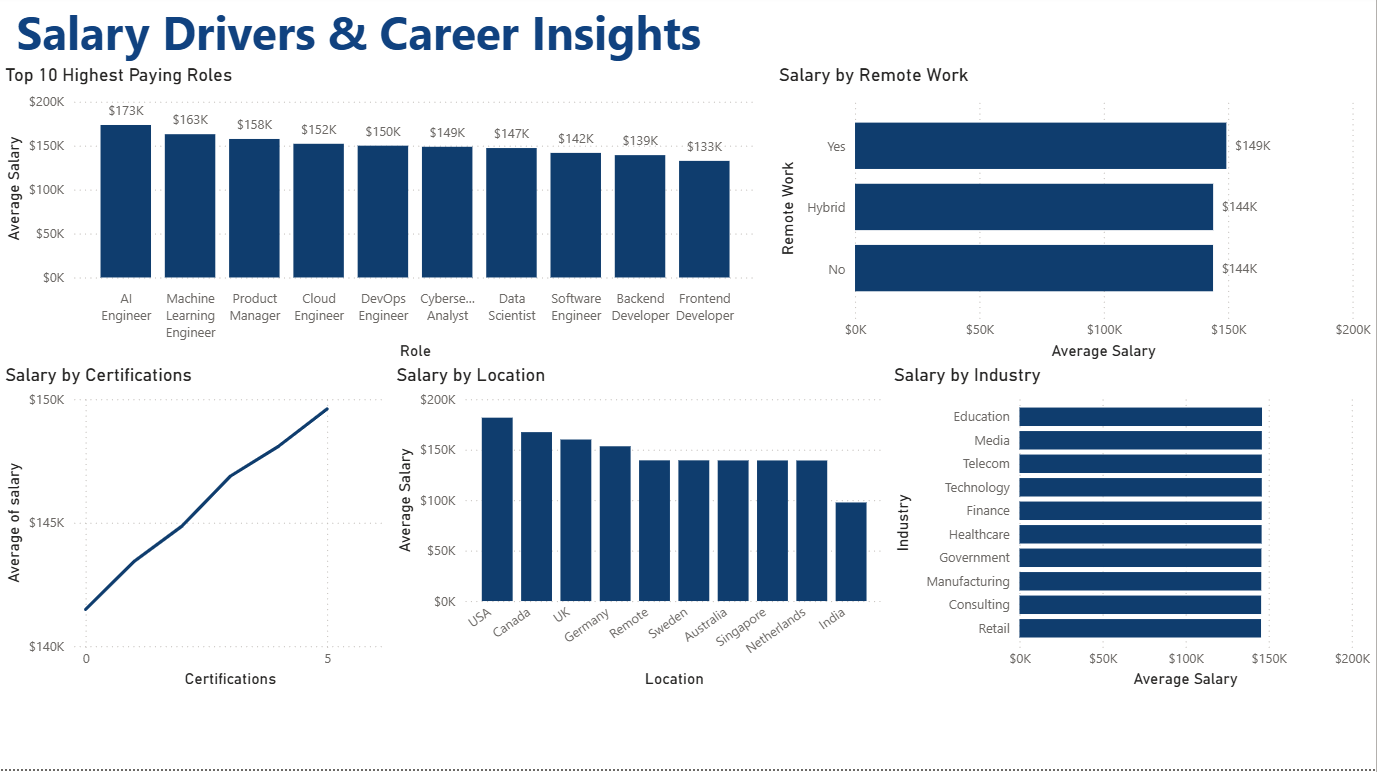

Layout of this report page (visuals, bound fields, positions):
{"tool":"powerbi","page":{"name":"Salary Driver & Career Insight","canvas":[1280,720],"ordinal":1},"visuals":[{"type":"textbox","box":[10,0,708.8,280],"z":0},{"type":"columnChart","title":"Top 10 Highest Paying Roles","fields":{"Y":["Avg(job_salary_prediction_dataset.salary)"],"Category":["job_salary_prediction_dataset.job_title"]},"box":[0,63.5,708.7,279.8],"z":1000},{"type":"barChart","title":"Salary by Remote Work","fields":{"Y":["Avg(job_salary_prediction_dataset.salary)"],"Category":["job_salary_prediction_dataset.remote_work"]},"box":[719.2,63.5,560.6,279.8],"z":2000},{"type":"lineChart","title":"Salary by Certifications","fields":{"Y":["Avg(job_salary_prediction_dataset.salary)"],"Category":["job_salary_prediction_dataset.certifications"]},"box":[0,343.3,364.4,306.7],"z":3000},{"type":"columnChart","title":"Salary by Location","fields":{"Category":["job_salary_prediction_dataset.location"],"Y":["Avg(job_salary_prediction_dataset.salary)"]},"box":[364.4,343.3,462.5,306.7],"z":3001},{"type":"barChart","title":"Salary by Industry","fields":{"Category":["job_salary_prediction_dataset.industry"],"Y":["Avg(job_salary_prediction_dataset.salary)"]},"box":[826.9,343.3,452.9,306.7],"z":3002}]}

Visuals, with their boxes in screenshot pixels (x1, y1, x2, y2), scaled from the page's 1280x720 canvas onto the 1377x772 screenshot:
textbox: 11, 0, 773, 300
"Top 10 Highest Paying Roles" columnChart: 0, 68, 762, 368
"Salary by Remote Work" barChart: 774, 68, 1376, 368
"Salary by Certifications" lineChart: 0, 368, 392, 697
"Salary by Location" columnChart: 392, 368, 890, 697
"Salary by Industry" barChart: 890, 368, 1376, 697
